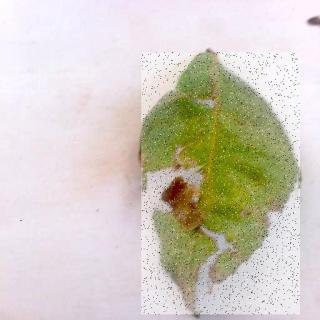Brown Blight: (142, 54, 301, 317)
